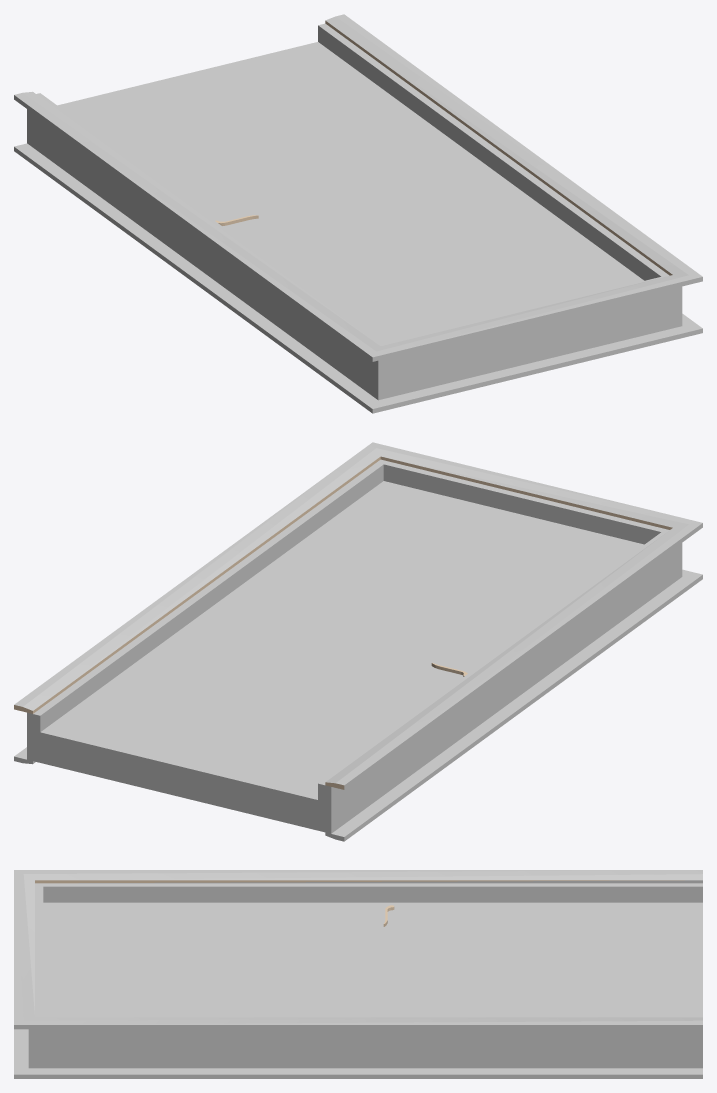
The picture shows the model from 3 angles, top to bottom: view 1: azimuth 30°, elevation 25°; view 2: azimuth 150°, elevation 25°; view 3: azimuth 270°, elevation 25°; orthographic projection. The views are drawn at different scales.
Visible parts, largest first — view 1: Group_251, IfcDoor_-_单嵌板木门_14D-04455344<3ID151naX4SP9QZfy4vvW9#1>_3; view 2: Group_251, IfcDoor_-_单嵌板木门_14D-04455344<3ID151naX4SP9QZfy4vvW9#1>_3; view 3: Group_251, IfcDoor_-_单嵌板木门_14D-04455344<3ID151naX4SP9QZfy4vvW9#1>_3.
Boxes of the visible parts, box(x1,y1,x2,y2) form: Group_251: box(57, 42, 644, 344); IfcDoor_-_单嵌板木门_14D-04455344<3ID151naX4SP9QZfy4vvW9#1>_3: box(14, 14, 702, 413); Group_251: box(36, 481, 644, 831); IfcDoor_-_单嵌板木门_14D-04455344<3ID151naX4SP9QZfy4vvW9#1>_3: box(14, 442, 702, 841); Group_251: box(43, 902, 702, 1016); IfcDoor_-_单嵌板木门_14D-04455344<3ID151naX4SP9QZfy4vvW9#1>_3: box(14, 870, 702, 1078).
Size of the model in its own units: 44.49 by 9.02 by 83.66.
